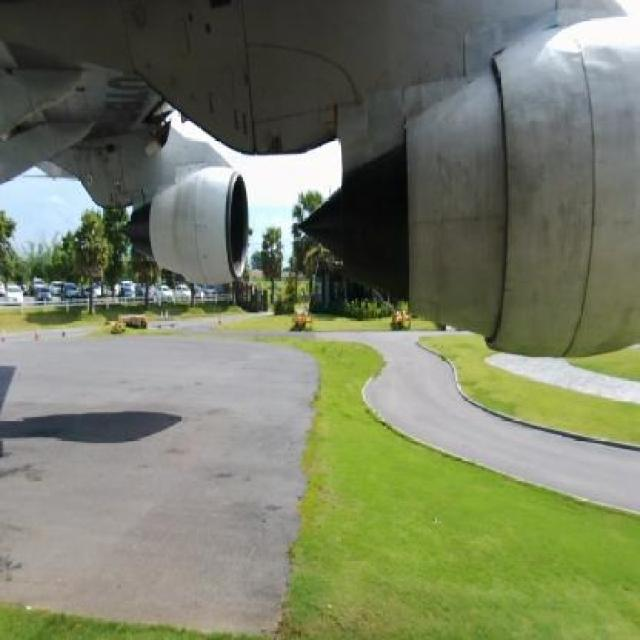Scartch: (502, 88, 595, 284), (431, 117, 503, 261)
